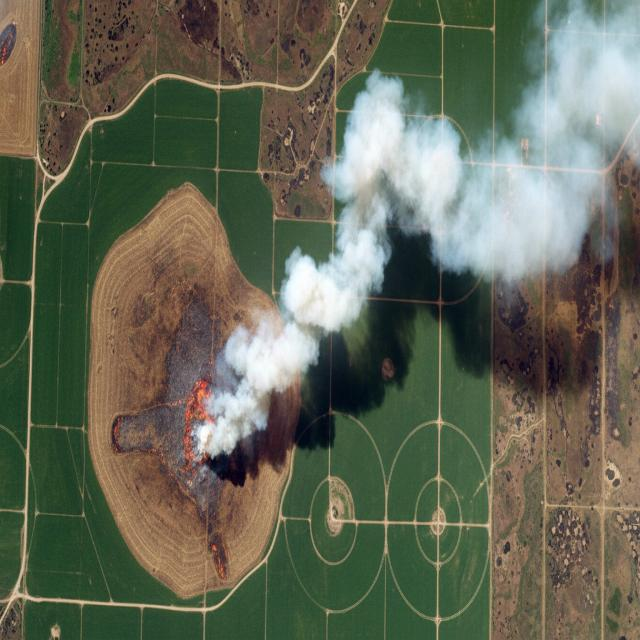wildfire: (170, 294, 310, 520)
